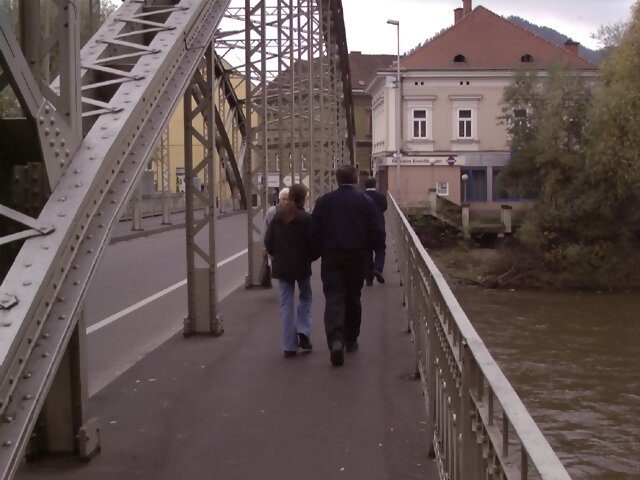person: (317, 165, 389, 371), (263, 183, 318, 360)
